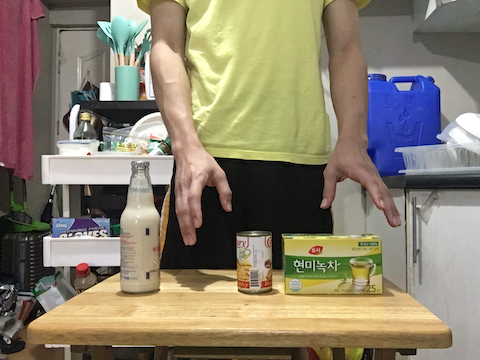bottle: (118, 156, 167, 296)
box: (280, 232, 387, 297)
can: (235, 231, 274, 296)
